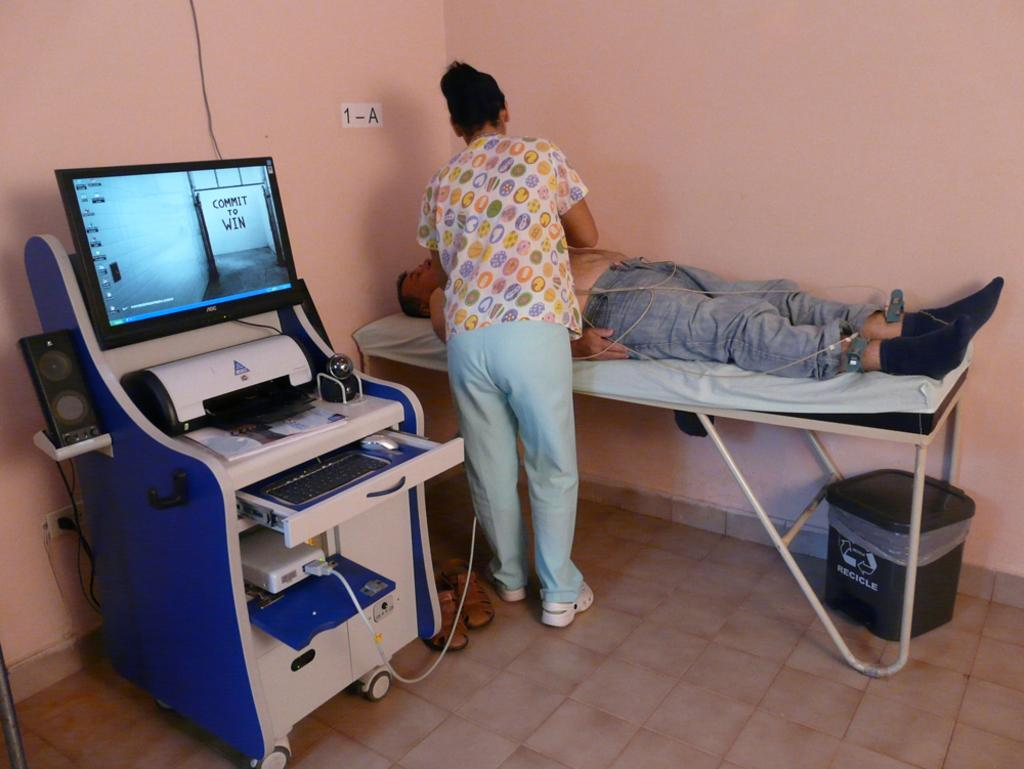Computer-monitor: (52, 152, 307, 351)
